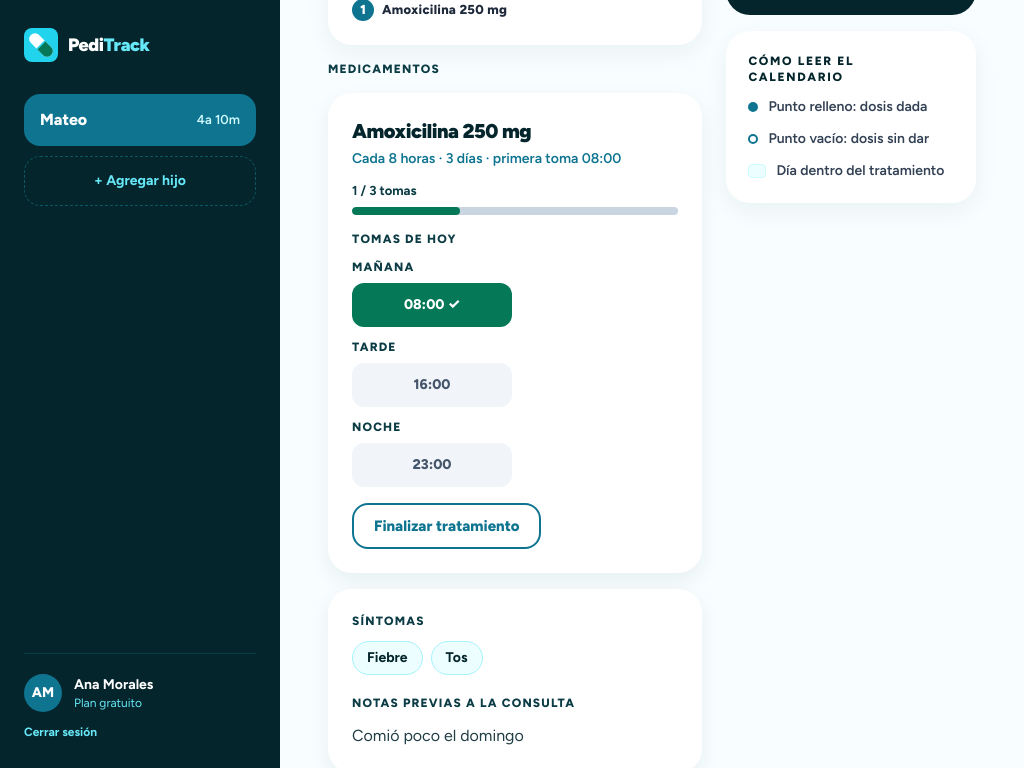
Scenario: ConsultationDetailPage › on the phone (mock 03) › shows the medication progress above its doses and updates it when a dose is marked (specs/014)
(page scrolled)
Expected: the text "1 / 3 tomas" is shown, [352,183,417,198]
Click the button named "Toma de 16:00" at (432, 384), box [352,362,512,406]
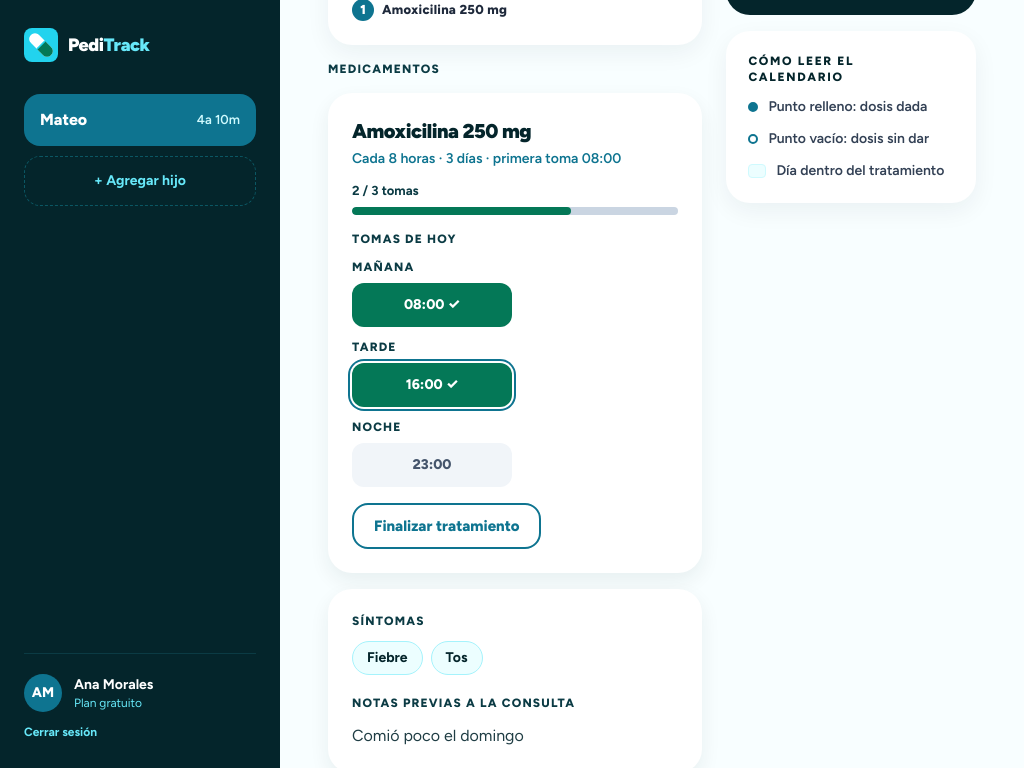
Expected: the text "2 / 3 tomas" is shown, [352,183,419,198]
